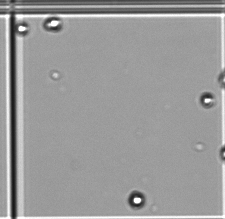Living Cell: (129, 191, 145, 209), (199, 92, 215, 108), (44, 17, 62, 31), (16, 24, 28, 34)
